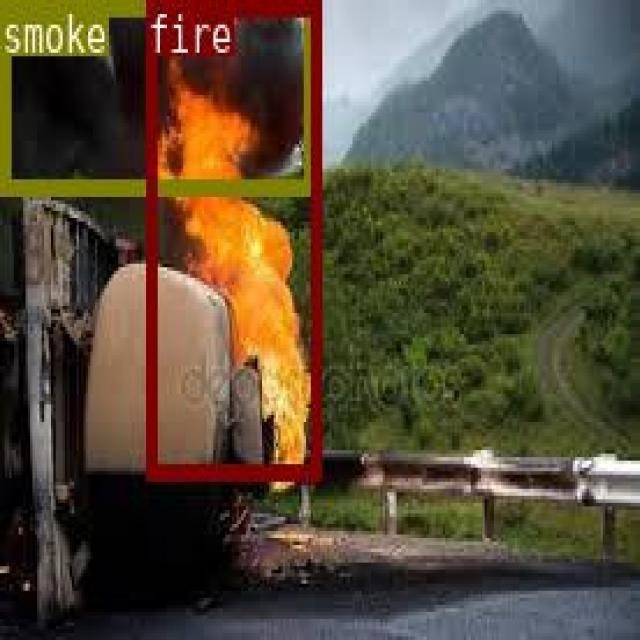fire: (144, 0, 320, 478)
smoke: (0, 0, 311, 190)
